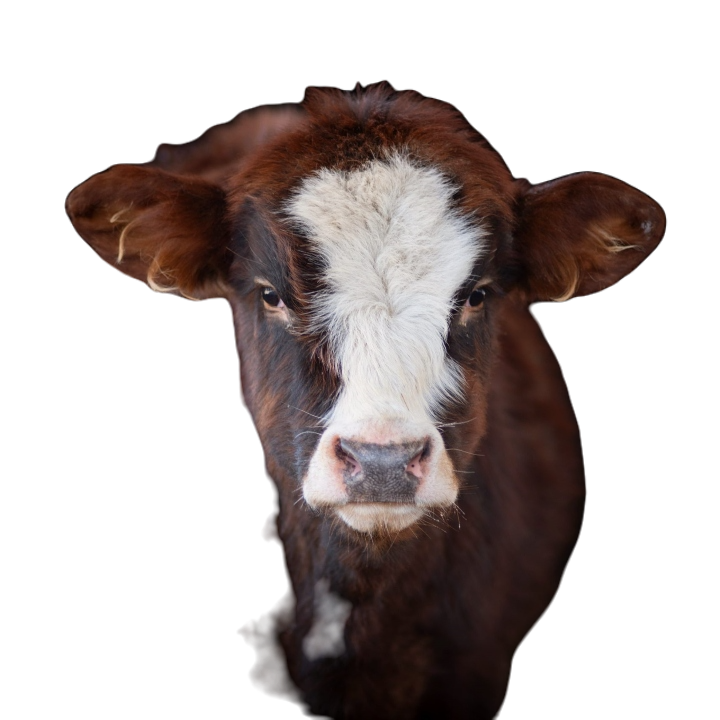Cow: (63, 79, 666, 719)
